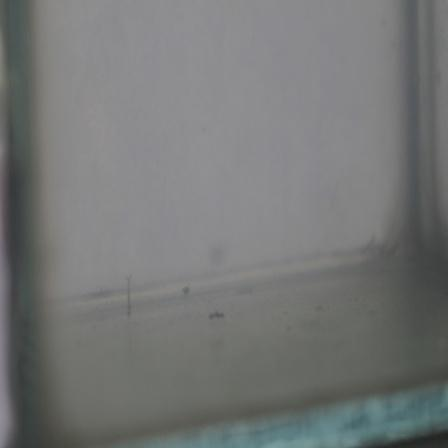Jentik-Nyamuk: (121, 270, 136, 318)
